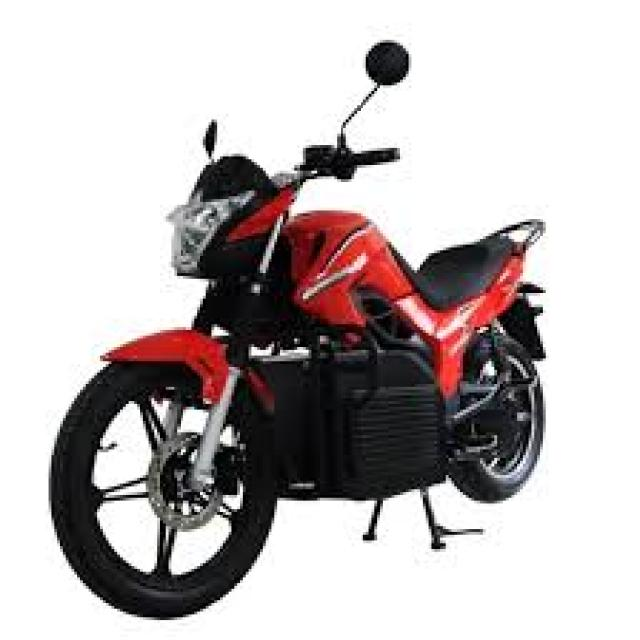bodaboda: (8, 0, 622, 640)
